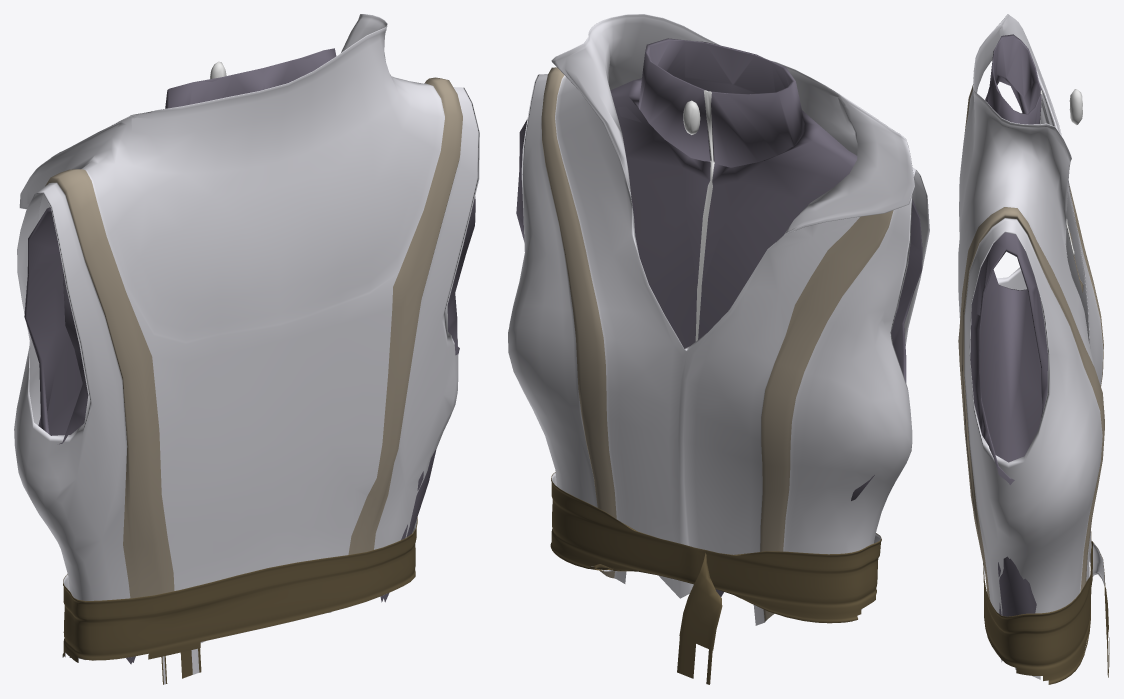
File: droppedLigthningclothes.fbx
3 views of the same model, side by side, from view 1: azimuth 30°, elevation 25°; view 2: azimuth 150°, elevation 25°; view 3: azimuth 270°, elevation 25° (orthographic). The views are drawn at different scales.
Parts seen in each view (by area): view 1: Mantle, Shirt.001; view 2: Mantle, Shirt.001; view 3: Mantle, Shirt.001, Short.001.
Boxes of the visible parts, <box> form: Mantle: <box>14,14,479,684</box>; Shirt.001: <box>24,48,475,664</box>; Mantle: <box>508,14,929,684</box>; Shirt.001: <box>516,38,922,596</box>; Mantle: <box>958,14,1109,684</box>; Shirt.001: <box>970,34,1047,661</box>; Short.001: <box>1069,89,1082,125</box>.
Bounding box in the file's own units: 2.7 × 3.91 × 0.8537.
